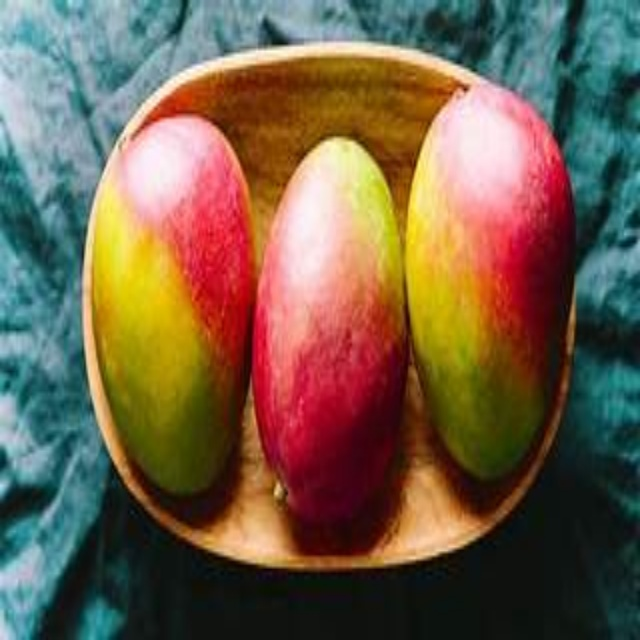mango: (401, 79, 566, 485), (93, 113, 254, 495), (258, 140, 409, 516)
